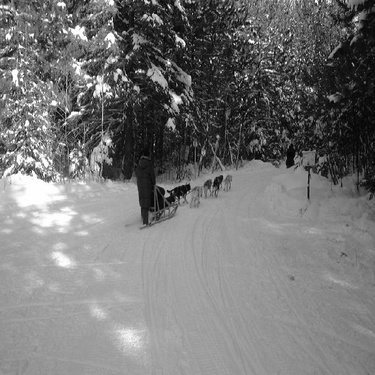dog: (164, 182, 193, 206), (186, 183, 205, 207), (219, 171, 234, 196), (200, 178, 213, 198), (211, 174, 222, 194)
